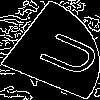U: (25, 25, 100, 80)
